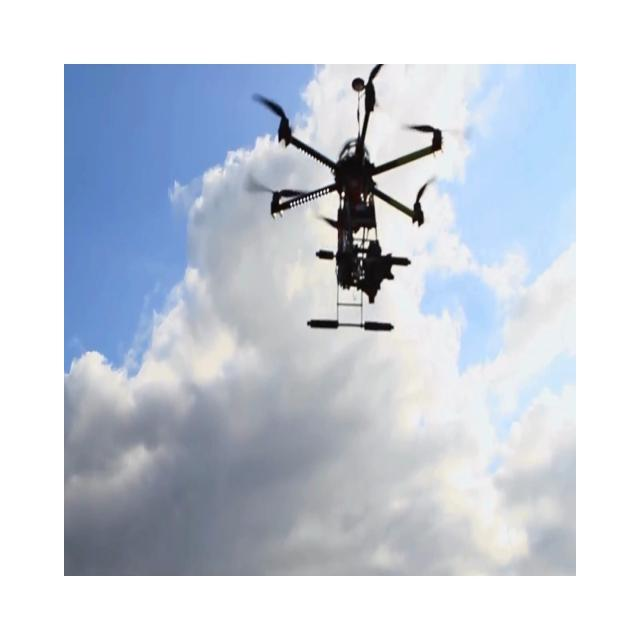drone: (245, 62, 458, 332)
